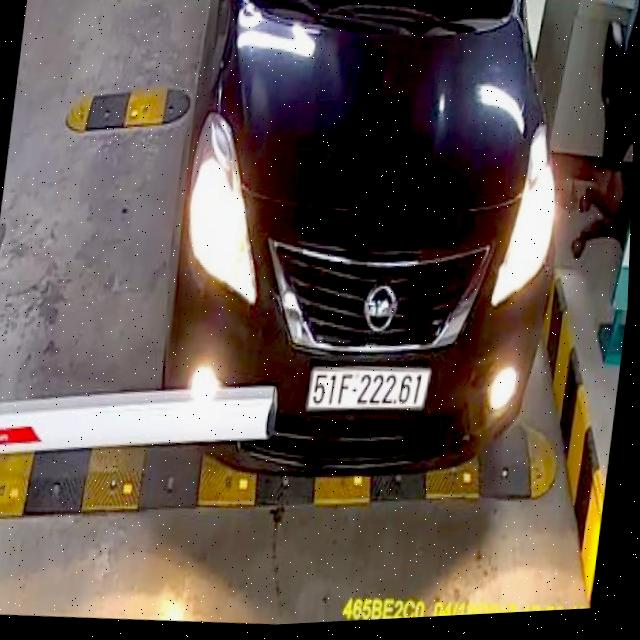car: (147, 0, 592, 505)
plate: (302, 358, 434, 422)
